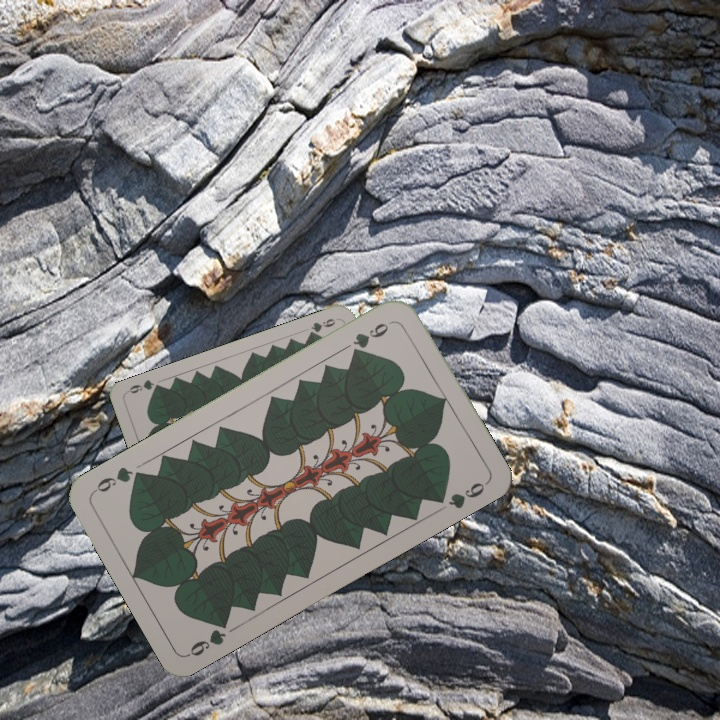G9: (184, 614, 232, 659), (347, 316, 397, 358), (304, 314, 341, 339)
